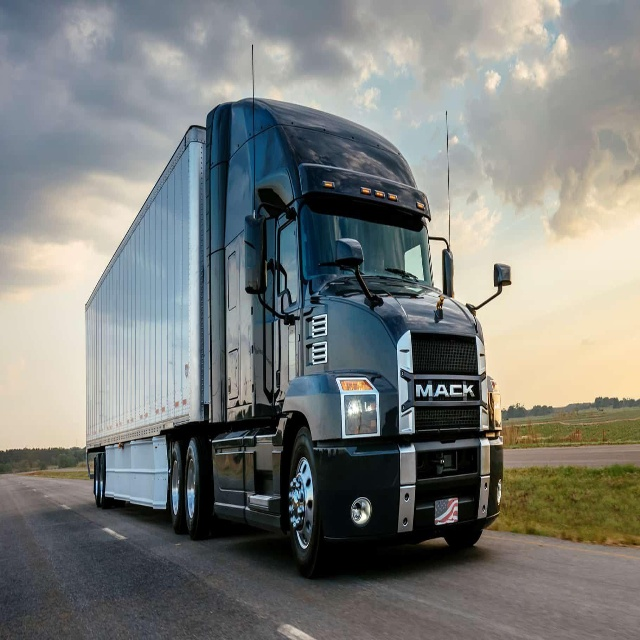Truck: (84, 98, 510, 580)
